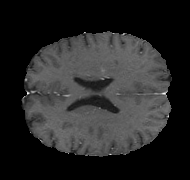Edema: (38, 61, 117, 119)
EnhancingTumors: (83, 66, 113, 97)
Necrosis: (82, 63, 112, 97)
